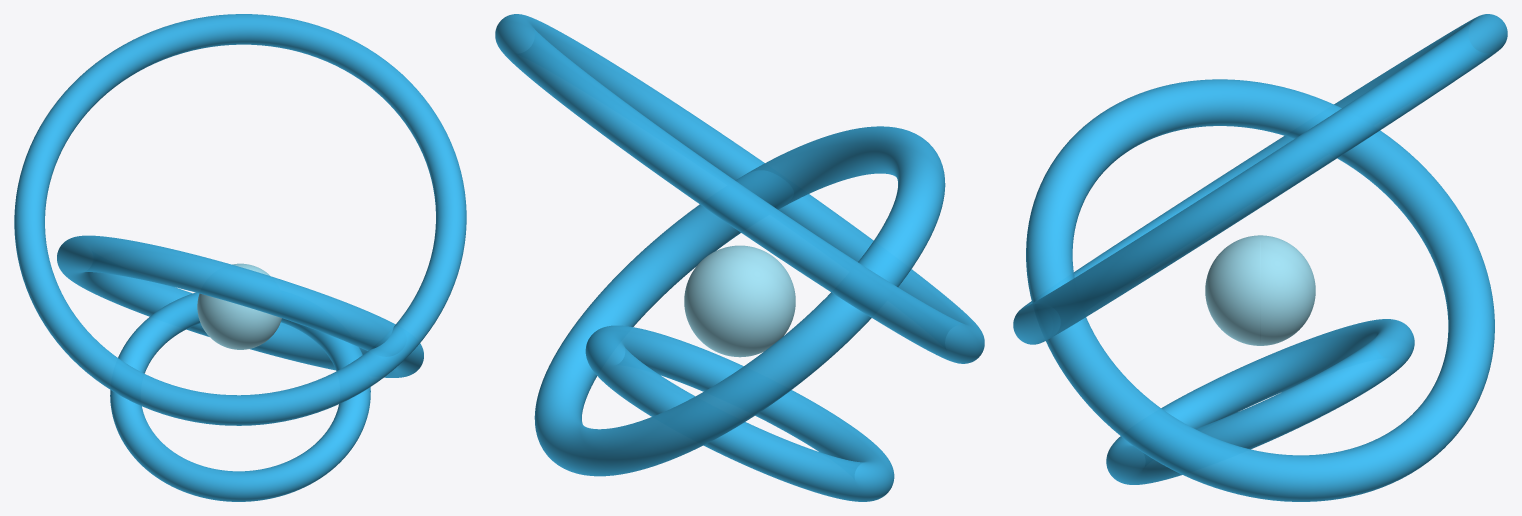
File: ruzgar.glb
3 views of the same model, side by side, from view 1: azimuth 30°, elevation 25°; view 2: azimuth 150°, elevation 25°; view 3: azimuth 270°, elevation 25° (orthographic). The views are drawn at different scales.
Size of the model in its own units: 0.0445 by 0.043 by 0.0403.
